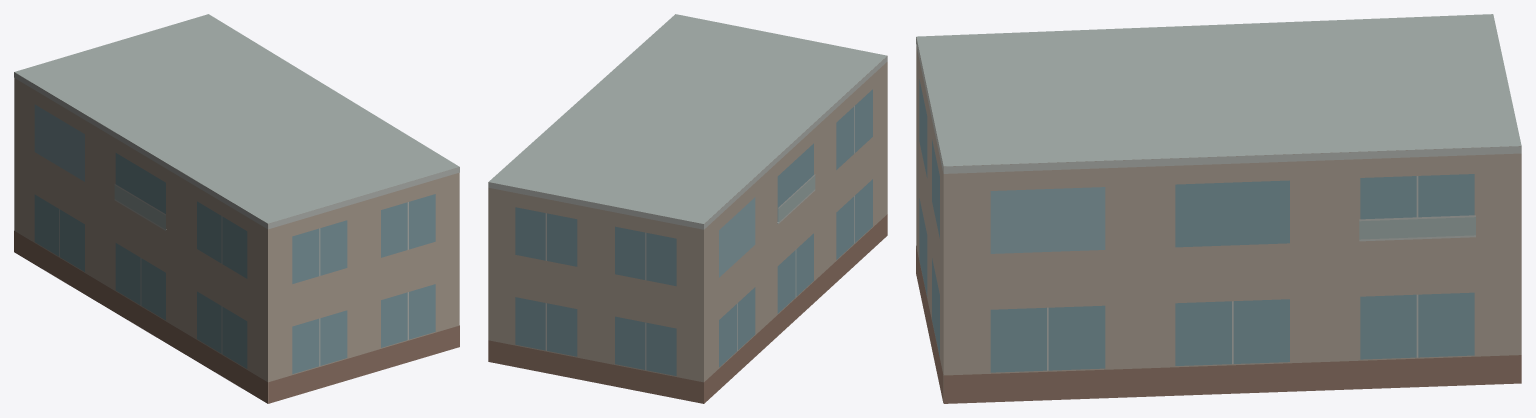
Rendered from survey-upis-32531024.glb.
3 views of the same model, side by side, from view 1: azimuth 30°, elevation 25°; view 2: azimuth 150°, elevation 25°; view 3: azimuth 270°, elevation 25° (orthographic). The views are drawn at different scales.
Parts seen in each view (by area): view 1: survey-upis-32531024.tmp; view 2: survey-upis-32531024.tmp; view 3: survey-upis-32531024.tmp.
Part boxes in pixels (x1=…): survey-upis-32531024.tmp: x1=14, y1=14, x2=459, y2=403; survey-upis-32531024.tmp: x1=488, y1=14, x2=887, y2=403; survey-upis-32531024.tmp: x1=916, y1=14, x2=1521, y2=403.
Bounding box in the file's own units: 10.61 × 7.7 × 17.81.
